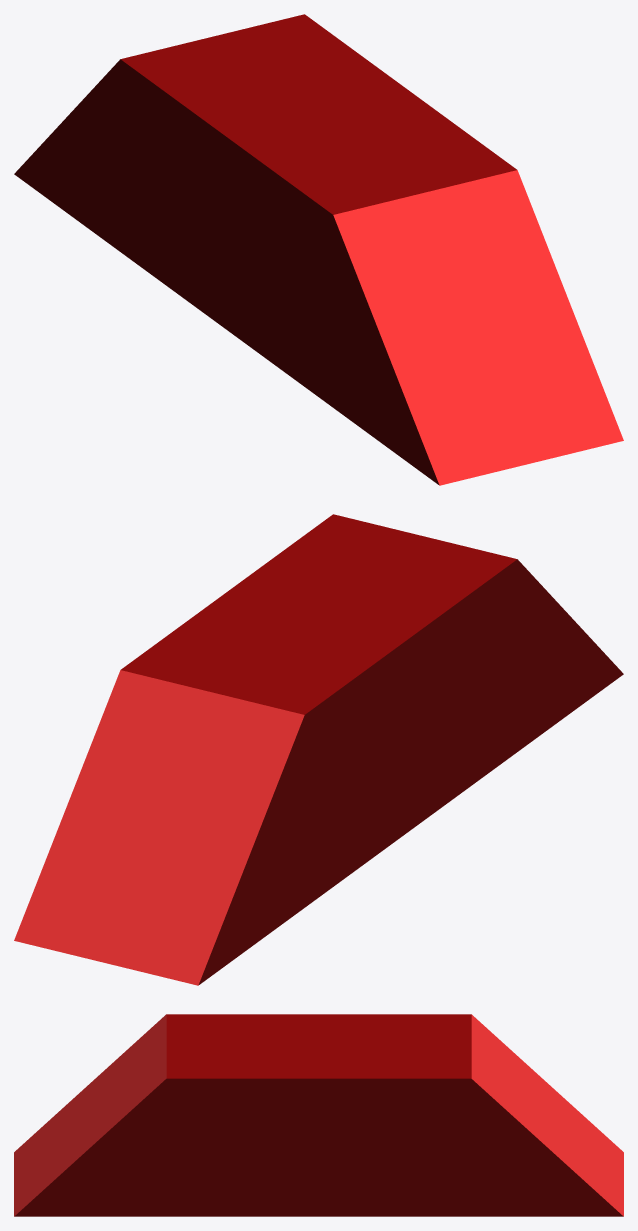
The model's file is 45slope2.dae.
3 views of the same model, one above another, from view 1: azimuth 30°, elevation 25°; view 2: azimuth 150°, elevation 25°; view 3: azimuth 270°, elevation 25° (orthographic). The views are drawn at different scales.
Visible parts, largest first — view 1: SketchUp (×3); view 2: SketchUp (×3); view 3: SketchUp (×4).
Boxes of the visible parts, x1=… form: SketchUp (×3): x1=14, y1=14, x2=623, y2=485; SketchUp (×3): x1=14, y1=514, x2=623, y2=985; SketchUp (×4): x1=14, y1=1014, x2=623, y2=1216.
Size of the model in its own units: 78.74 by 315 by 78.74.
